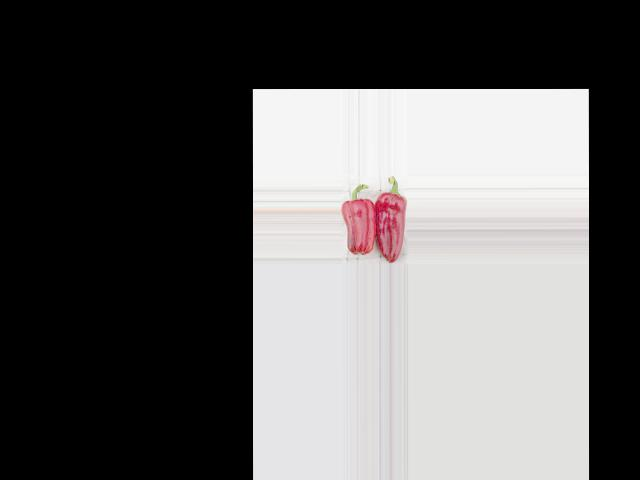bell_pepper: (374, 173, 406, 263)
